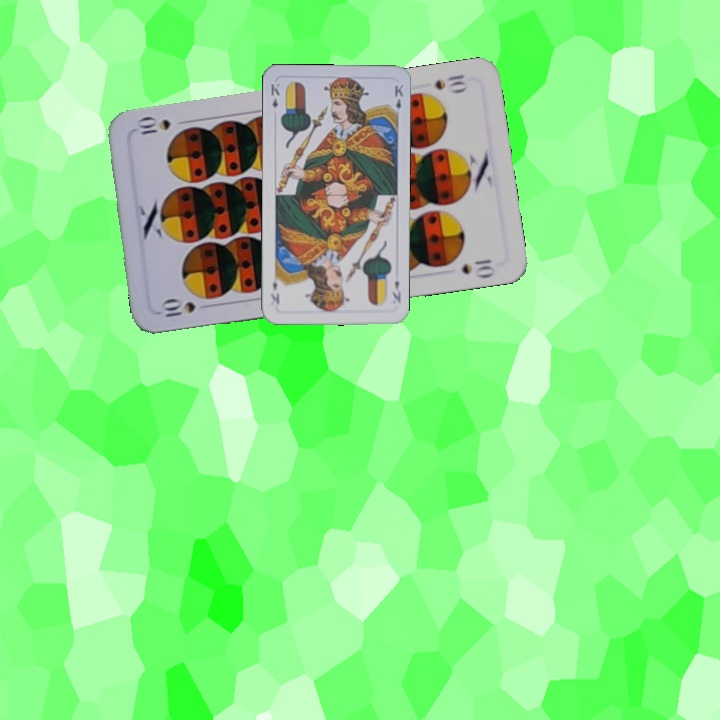EK: (267, 79, 282, 111), (388, 276, 403, 305)
S10: (156, 296, 215, 320), (430, 70, 470, 95)
